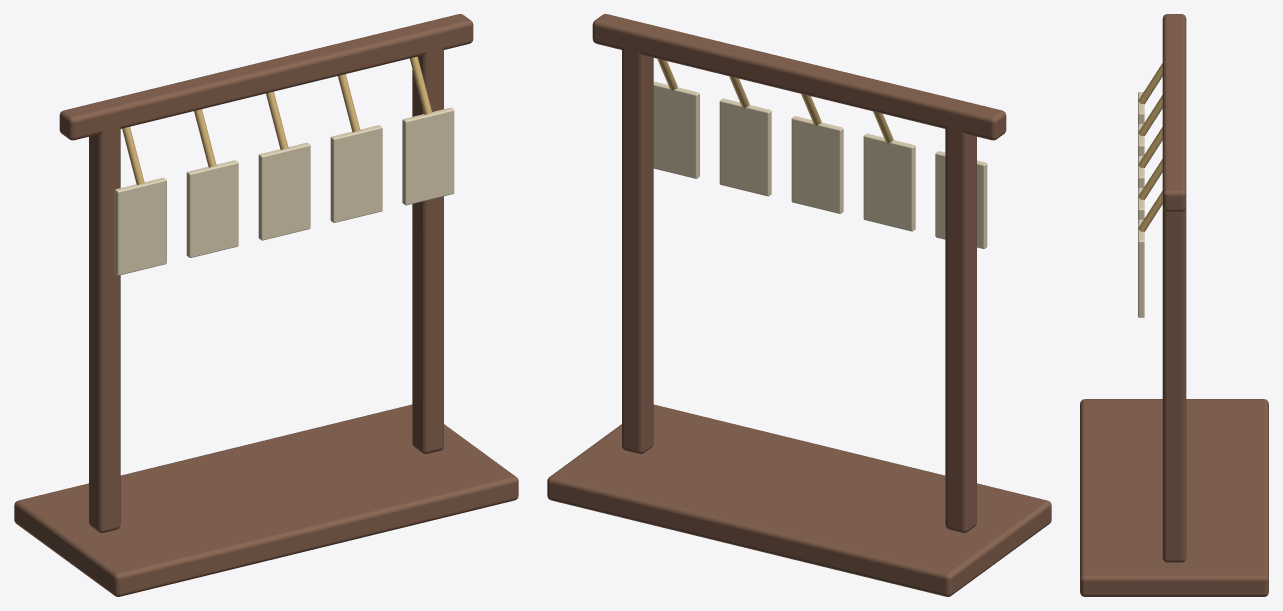
The model's file is griffin-airmail-roost-and-posthouse-destination-tag-ra-fd56f172__30532.glb.
3 views of the same model, side by side, from view 1: azimuth 30°, elevation 25°; view 2: azimuth 150°, elevation 25°; view 3: azimuth 270°, elevation 25° (orthographic). The views are drawn at different scales.
Parts seen in each view (by area): view 1: destination-tag-rack; view 2: destination-tag-rack; view 3: destination-tag-rack.
Boxes of the visible parts, left/top/right/bottom form: destination-tag-rack: left=14, top=14, right=518, bottom=596; destination-tag-rack: left=547, top=14, right=1051, bottom=596; destination-tag-rack: left=1080, top=14, right=1268, bottom=596.
Size of the model in its own units: 0.45 by 0.475 by 0.2.
